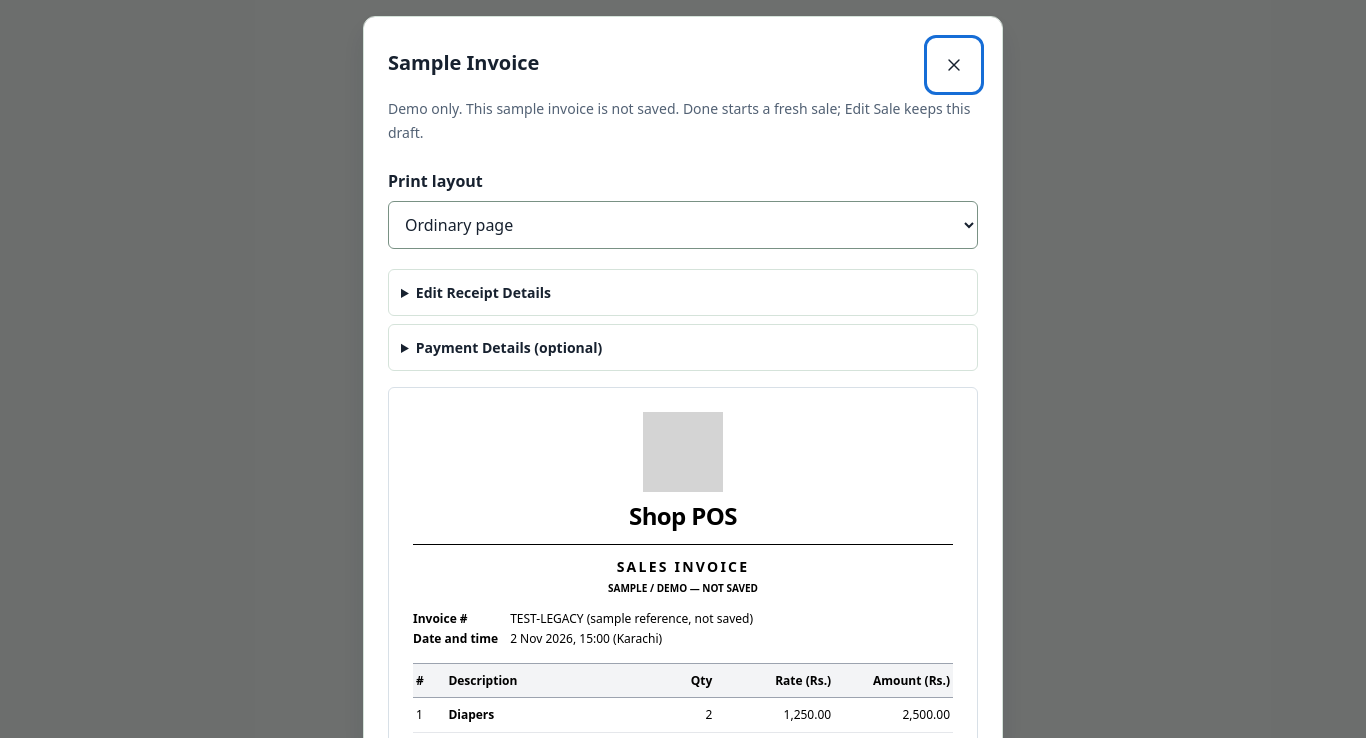
still displays a legacy global-discount receipt and computes its cash change without a second deduction
Replace the text in the field named "Cash Received (PKR, optional)" with "2300" at coordinates (683, 348), box [388,324,978,371]
(page scrolled)
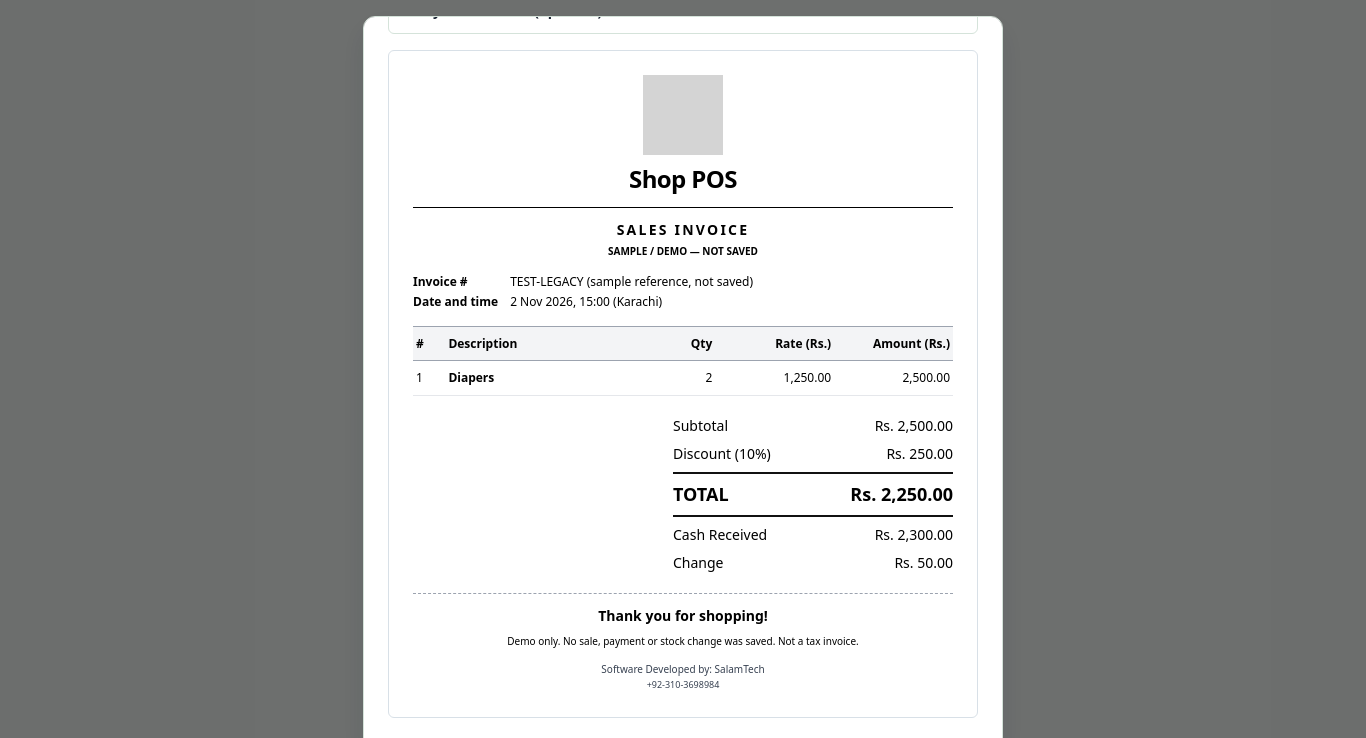
expect the element with class "receipt-sheet" shows "Rs. 50.00": met, box [894,553,953,572]
